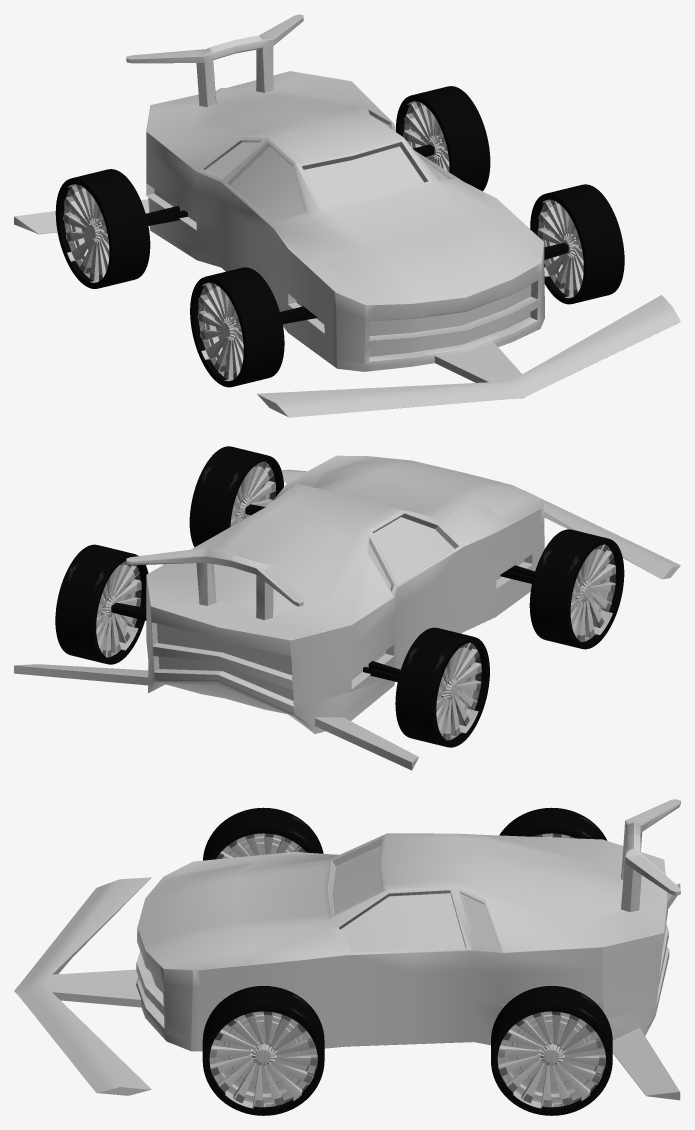
The model's file is Сar.fbx.
The picture shows the model from 3 angles, top to bottom: view 1: azimuth 30°, elevation 25°; view 2: azimuth 150°, elevation 25°; view 3: azimuth 270°, elevation 25°; orthographic projection. The views are drawn at different scales.
Parts seen in each view (by area): view 1: Body, RightBottomWheel, RightTopWheel, LeftTopWheel, LeftBottomWheel; view 2: Body, RightBottomWheel, RightTopWheel, LeftBottomWheel, LeftTopWheel, RightBottomPodveska; view 3: Body, LeftTopWheel, LeftBottomWheel, RightTopWheel, RightBottomWheel.
Boxes of the visible parts, left/top/right/bottom form: Body: left=14, top=14, right=680, bottom=417; RightBottomWheel: left=55, top=169, right=150, bottom=288; RightTopWheel: left=190, top=267, right=284, bottom=387; LeftTopWheel: left=530, top=184, right=624, bottom=304; LeftBottomWheel: left=396, top=86, right=490, bottom=191; Body: left=14, top=455, right=680, bottom=770; RightBottomWheel: left=395, top=627, right=489, bottom=747; RightTopWheel: left=529, top=529, right=624, bottom=649; LeftBottomWheel: left=55, top=544, right=148, bottom=664; LeftTopWheel: left=189, top=446, right=283, bottom=547; RightBottomPodveska: left=363, top=661, right=400, bottom=682; Body: left=14, top=799, right=680, bottom=1100; LeftTopWheel: left=202, top=986, right=324, bottom=1115; LeftBottomWheel: left=491, top=986, right=612, bottom=1115; RightTopWheel: left=203, top=807, right=323, bottom=860; RightBottomWheel: left=499, top=807, right=607, bottom=840.
Bounding box in the file's own units: 254 × 102 × 337.
